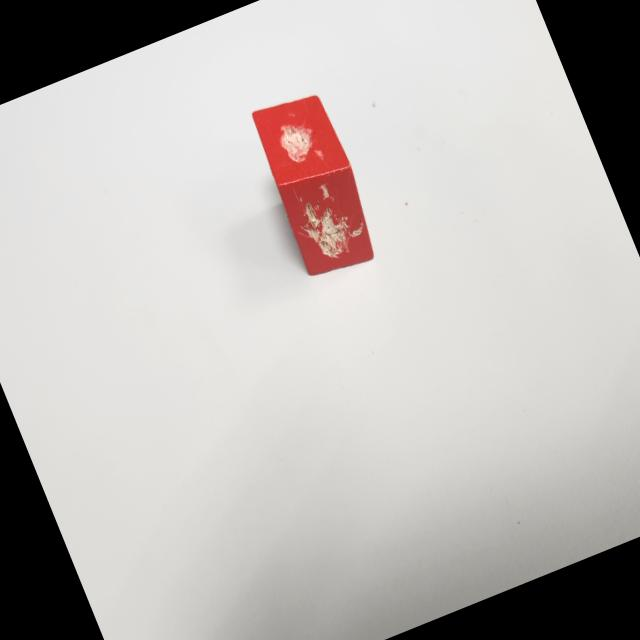broken: (242, 84, 386, 284)
